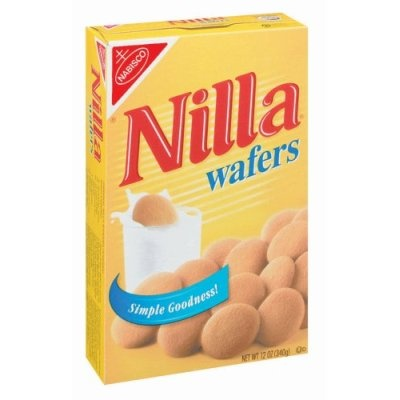grozi_77: (84, 12, 308, 384)
